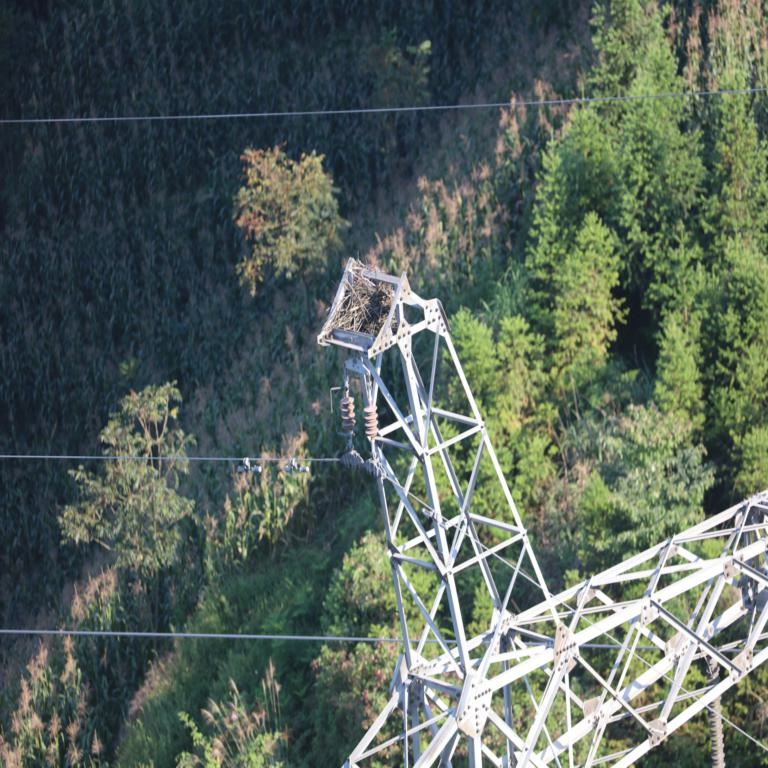nest: (342, 272, 395, 340)
